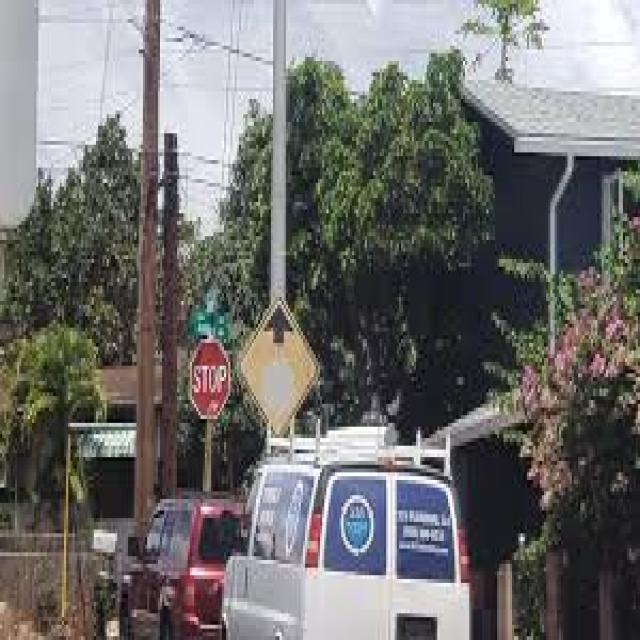stop-sign: (175, 321, 252, 482)
